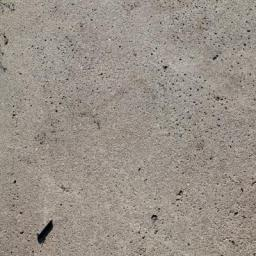FOD: (33, 218, 58, 244)
